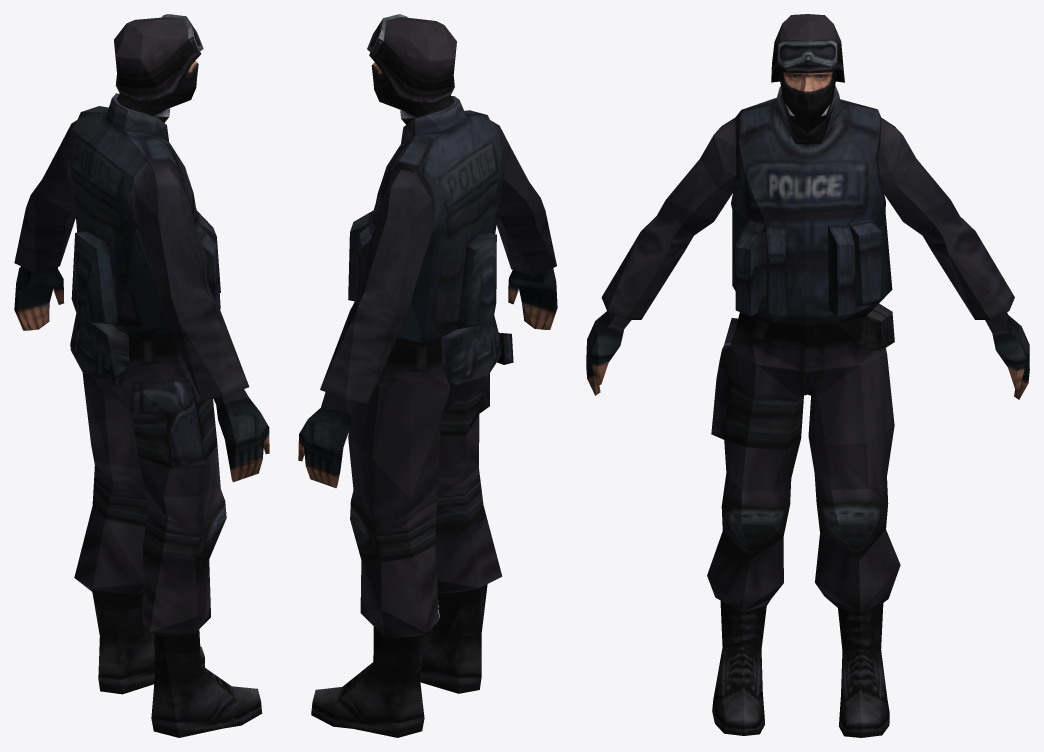
File: swat.obj
3 renders of one model, left to right at view 1: azimuth 30°, elevation 25°; view 2: azimuth 150°, elevation 25°; view 3: azimuth 270°, elevation 25°, orthographic.
Parts seen in each view (by area): view 1: _Pelvis; view 2: _Pelvis; view 3: _Pelvis.
Part boxes in pixels (x1=…): _Pelvis: x1=14, y1=14, x2=269, y2=737; _Pelvis: x1=298, y1=14, x2=557, y2=737; _Pelvis: x1=586, y1=14, x2=1029, y2=737.
Size of the model in its own units: 0.4337 by 1.86 by 1.09.
Materials: 1 (1 with a texture image).
